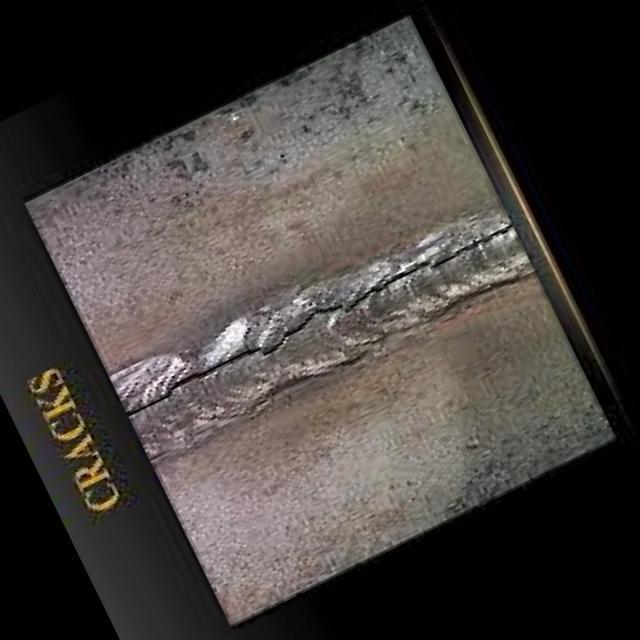defect: (122, 219, 517, 421)
